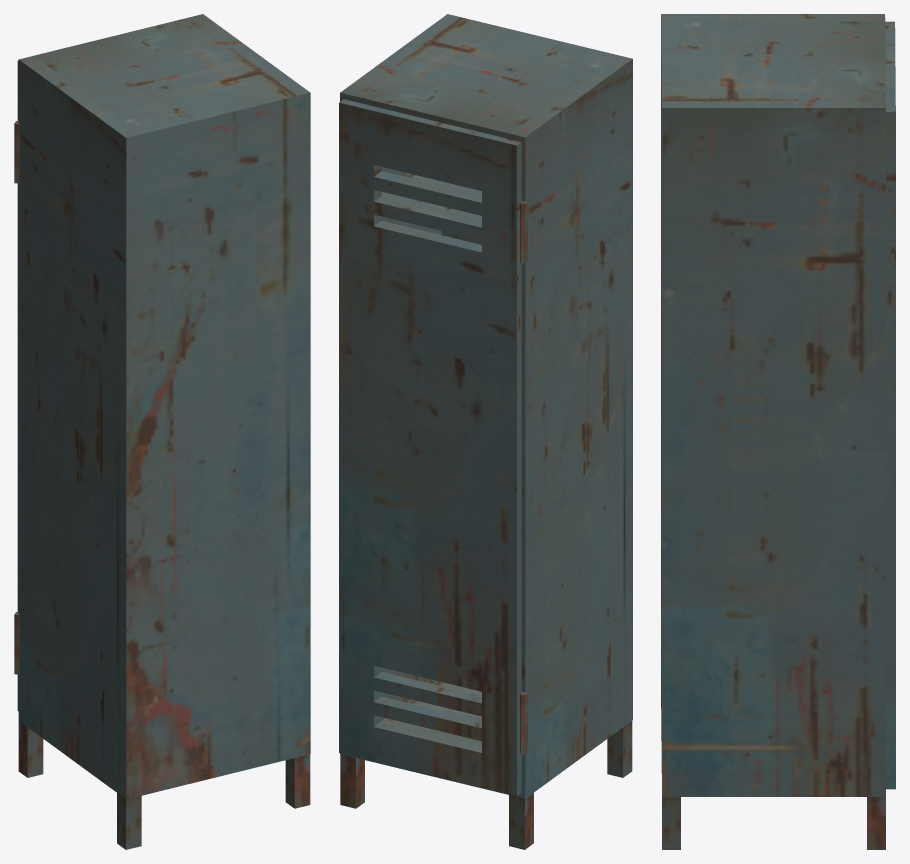
File: EmptyLocker.fbx
3 renders of one model, left to right at view 1: azimuth 30°, elevation 25°; view 2: azimuth 150°, elevation 25°; view 3: azimuth 270°, elevation 25°, orthographic. The views are drawn at different scales.
Parts seen in each view (by area): view 1: Locker_01, Locker_D_01; view 2: Locker_D_01, Locker_01; view 3: Locker_01, Locker_D_01.
Part boxes in pixels (bbox=[...]): Locker_01: bbox=[18, 14, 310, 849]; Locker_D_01: bbox=[14, 60, 19, 711]; Locker_D_01: bbox=[339, 99, 527, 795]; Locker_01: bbox=[340, 14, 632, 849]; Locker_01: bbox=[661, 14, 885, 849]; Locker_D_01: bbox=[885, 21, 895, 789].
Size of the model in its own units: 65.27 by 236 by 67.74.
